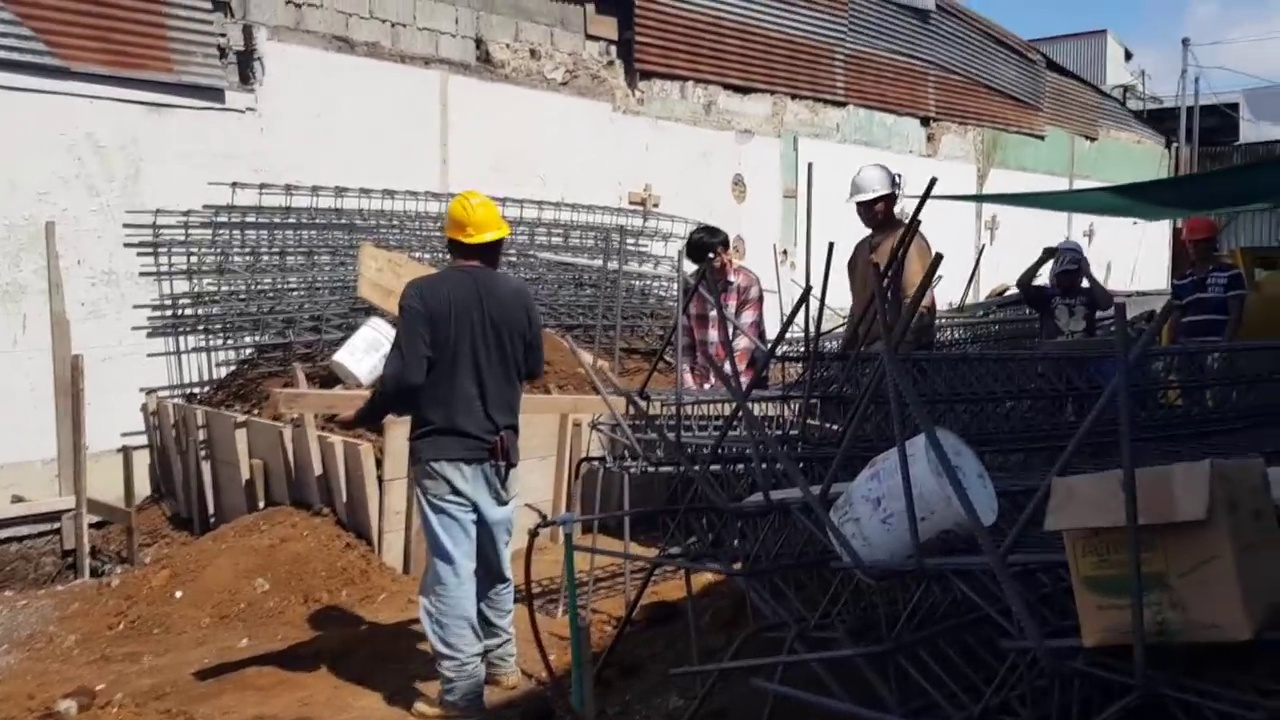helmet: (442, 190, 511, 247), (844, 165, 901, 206), (1180, 218, 1221, 243), (1052, 241, 1086, 255)
helmet-off: (680, 226, 729, 287)
helmet-on: (443, 191, 509, 269), (843, 165, 903, 239), (1034, 242, 1101, 295), (1180, 217, 1223, 269)
person: (320, 184, 550, 695), (833, 155, 938, 350), (675, 219, 767, 384), (999, 244, 1120, 347), (1160, 219, 1237, 362)
